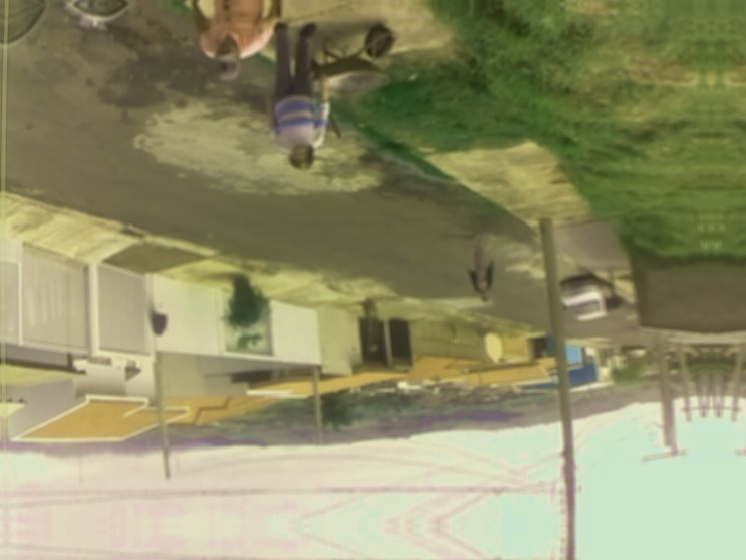person: (268, 23, 330, 170), (188, 0, 280, 83), (465, 233, 494, 302)
